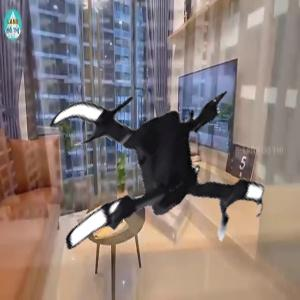drone: (39, 45, 290, 296)
